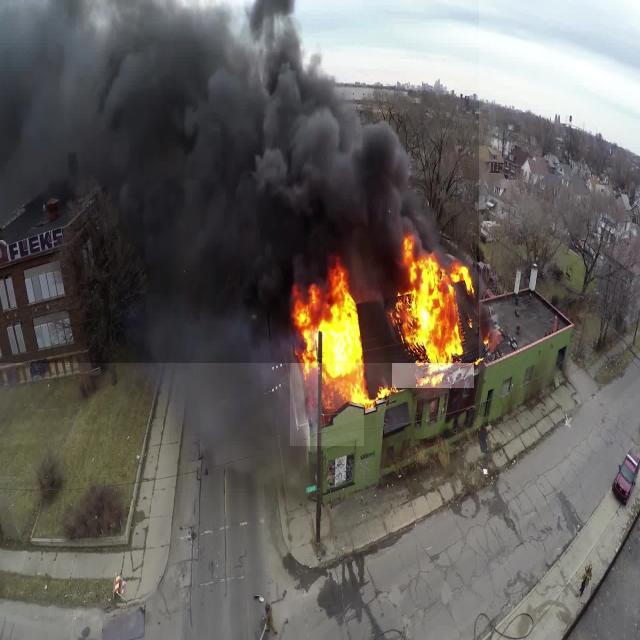Fire: (290, 255, 364, 446), (392, 235, 474, 388)
Smoke: (0, 0, 479, 363)
